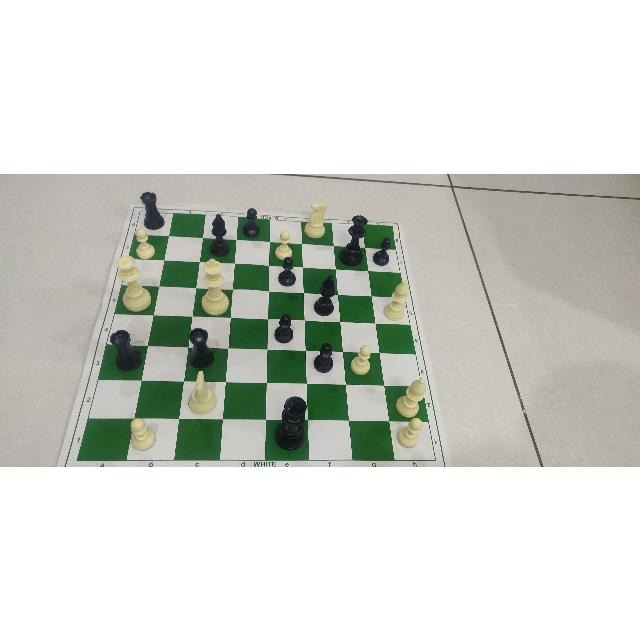black-bishop: (313, 272, 341, 314), (208, 213, 232, 249)
black-king: (276, 393, 311, 449), (276, 255, 302, 287)
black-pawn: (309, 341, 339, 377), (268, 314, 298, 342), (238, 206, 263, 234), (376, 234, 396, 264)
black-queen: (338, 213, 374, 262)
black-rook: (104, 329, 142, 370), (186, 327, 217, 366), (134, 189, 161, 224)
white-bishop: (379, 276, 414, 322), (391, 376, 431, 415)
white-king: (196, 256, 233, 311), (304, 200, 328, 236)
white-knight: (181, 369, 218, 418)
white-pawn: (396, 416, 428, 452), (129, 414, 157, 451), (350, 342, 374, 379), (132, 225, 156, 252), (273, 230, 293, 258)
white-queen: (113, 252, 154, 313)
